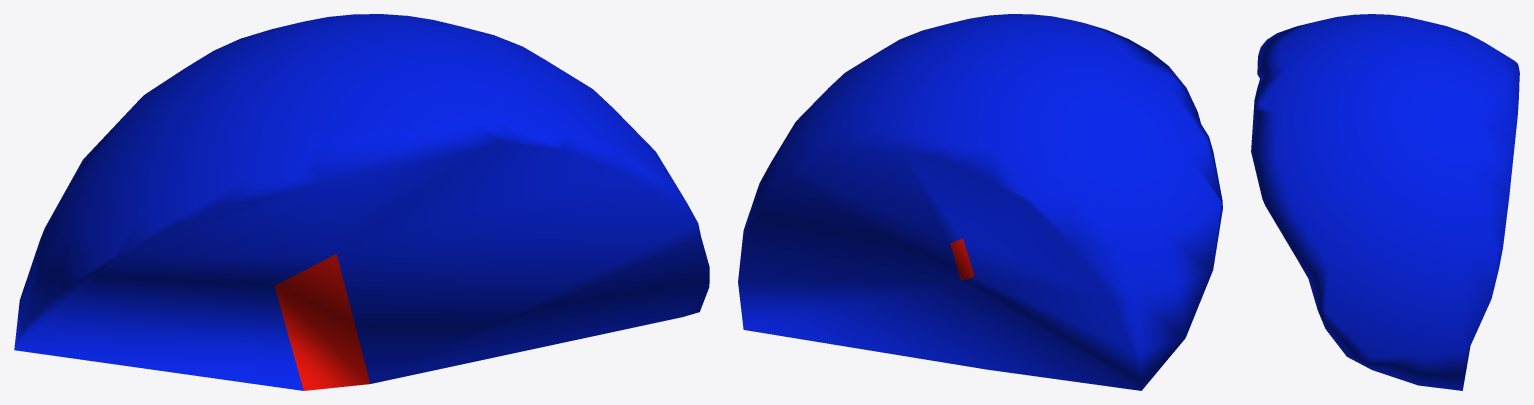
The model's file is Orbe_PlayStation_F5.fbx.
3 views of the same model, side by side, from view 1: azimuth 30°, elevation 25°; view 2: azimuth 150°, elevation 25°; view 3: azimuth 270°, elevation 25° (orthographic). The views are drawn at different scales.
Parts seen in each view (by area): view 1: Orbe_PlayStation_F5; view 2: Orbe_PlayStation_F5; view 3: Orbe_PlayStation_F5.
Part boxes in pixels (x1,y1,x2,y2): Orbe_PlayStation_F5: (14,14,709,390); Orbe_PlayStation_F5: (738,14,1222,390); Orbe_PlayStation_F5: (1251,14,1519,390).
Bounding box in the file's own units: 191 × 120 × 111.
